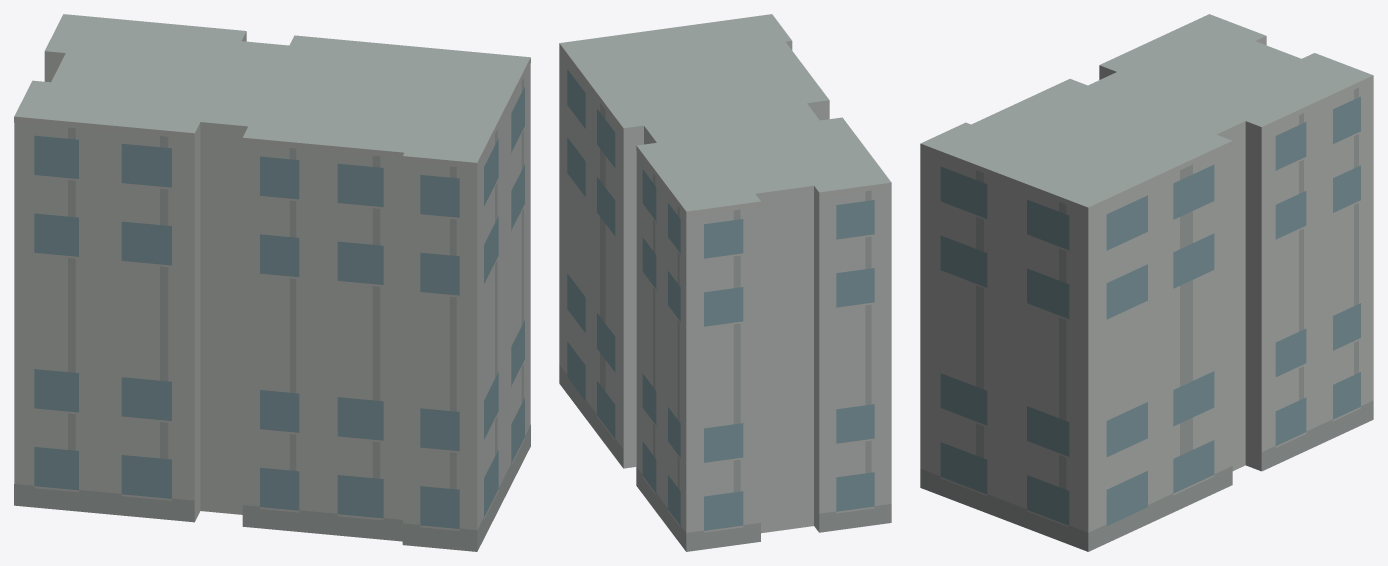
The model's file is survey-upis-32594032.glb.
3 views of the same model, side by side, from view 1: azimuth 30°, elevation 25°; view 2: azimuth 150°, elevation 25°; view 3: azimuth 270°, elevation 25° (orthographic). The views are drawn at different scales.
Visible parts, largest first — view 1: survey-upis-32594032.tmp; view 2: survey-upis-32594032.tmp; view 3: survey-upis-32594032.tmp.
Part boxes in pixels (bbox=[...]): survey-upis-32594032.tmp: bbox=[14, 14, 530, 551]; survey-upis-32594032.tmp: bbox=[559, 14, 891, 551]; survey-upis-32594032.tmp: bbox=[920, 14, 1373, 551].
Bounding box in the file's own units: 19.06 × 15.8 × 18.85.
